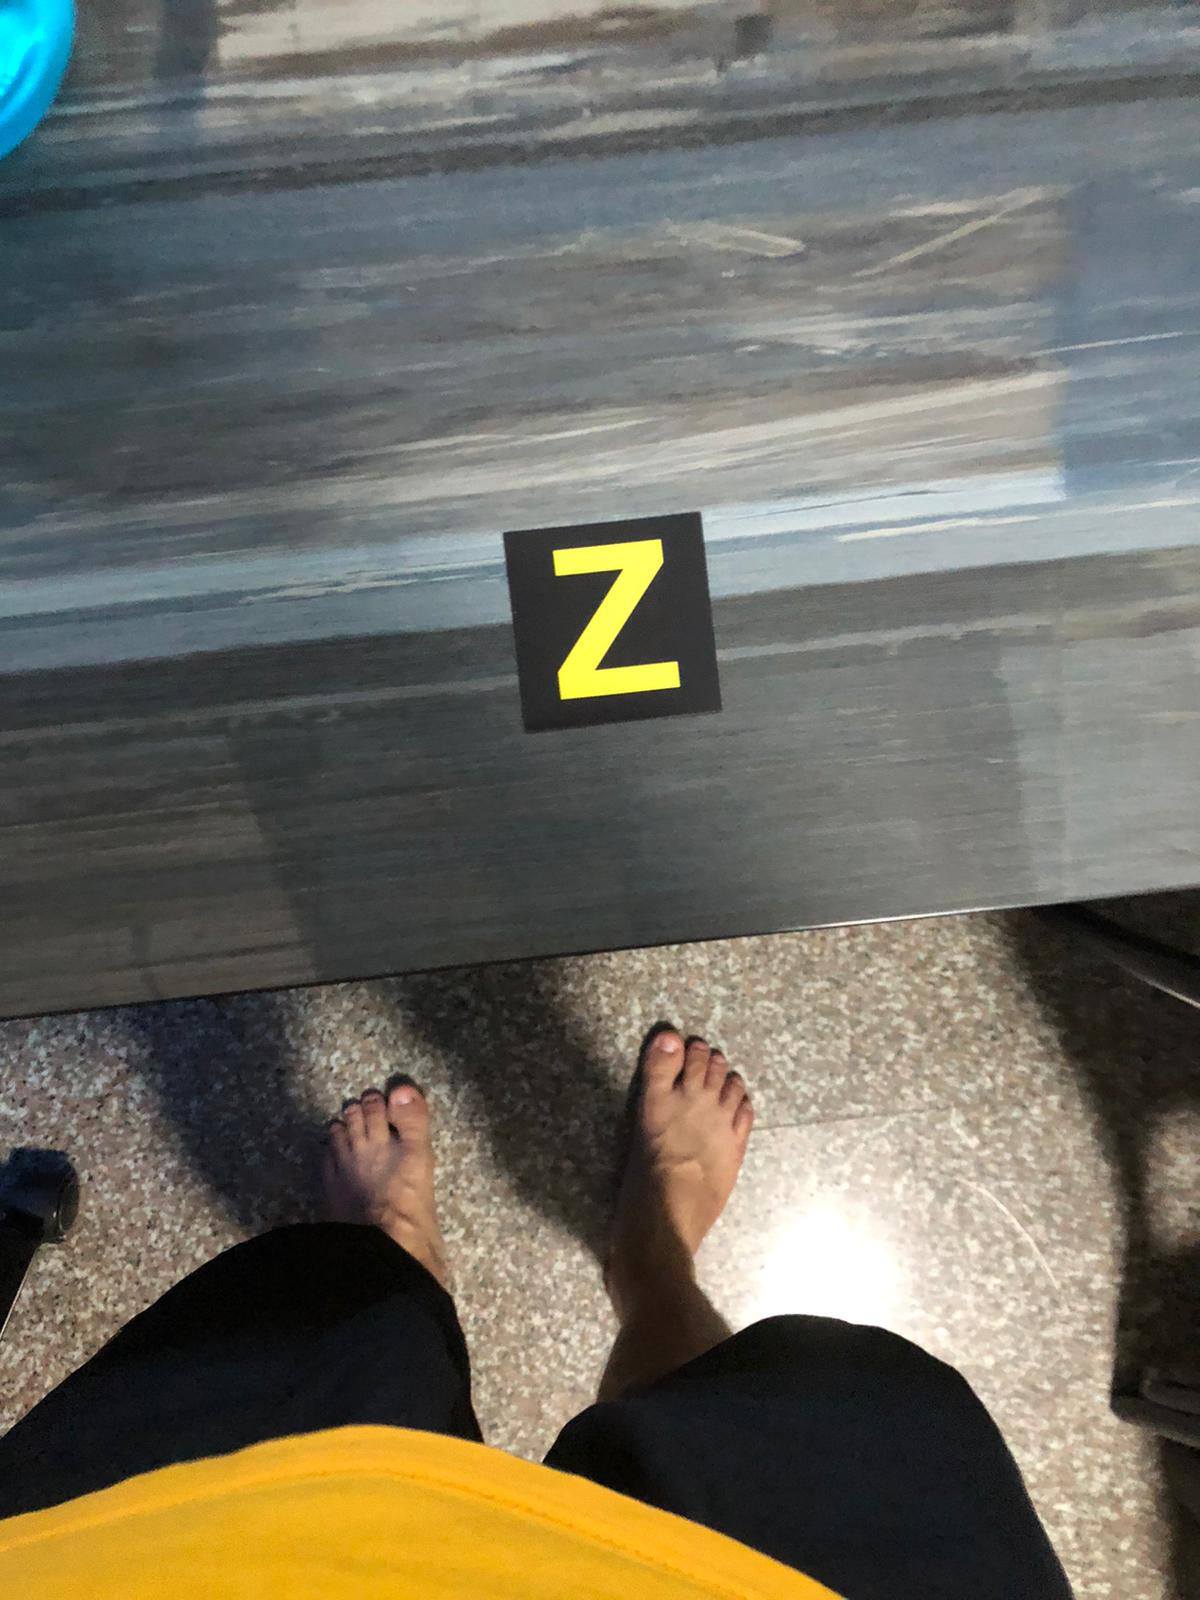Z: (511, 535, 718, 716)
